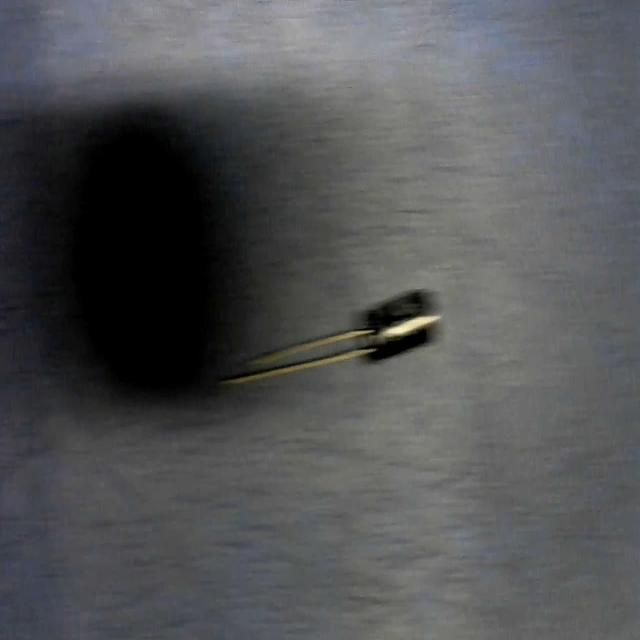capacitor: (217, 291, 435, 385)
